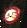Speed Limit -60-: (1, 5, 21, 23)
